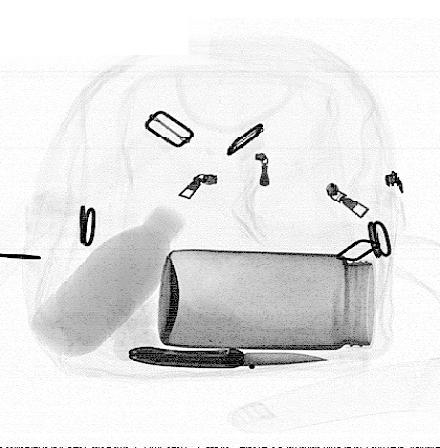Knife: (126, 344, 331, 370)
